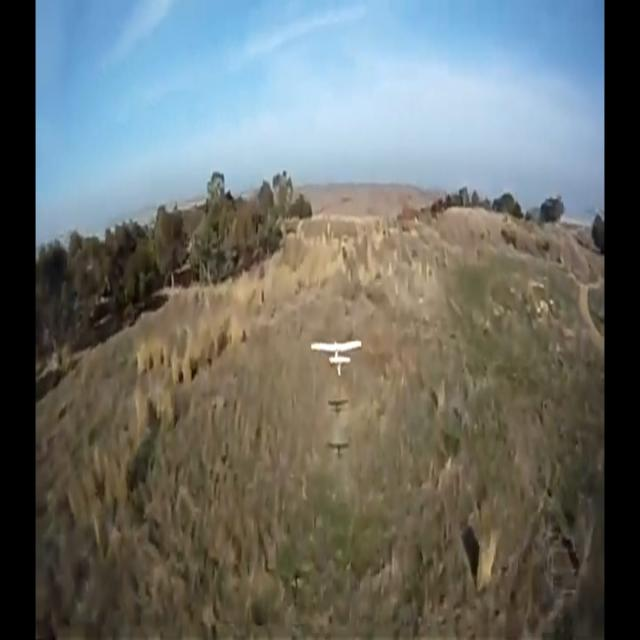iha: (310, 339, 362, 377)
